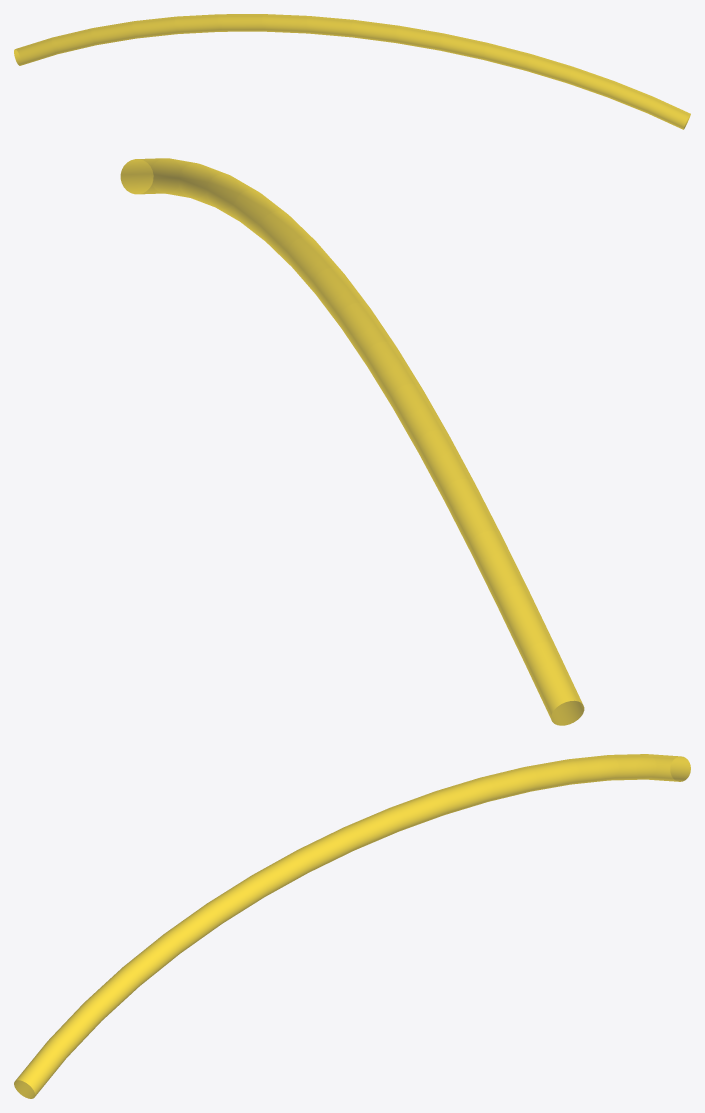
Rendered from Event_17758602_track_57.fbx.
3 views of the same model, one above another, from view 1: azimuth 30°, elevation 25°; view 2: azimuth 150°, elevation 25°; view 3: azimuth 270°, elevation 25° (orthographic). The views are drawn at different scales.
Visible parts, largest first — view 1: Model; view 2: Model; view 3: Model.
Part boxes in pixels (left/top/right/bottom): Model: left=14, top=14, right=690, bottom=129; Model: left=120, top=158, right=584, bottom=725; Model: left=14, top=754, right=690, bottom=1098.
Bounding box in the file's own units: 1.18 × 0.2007 × 1.06.
